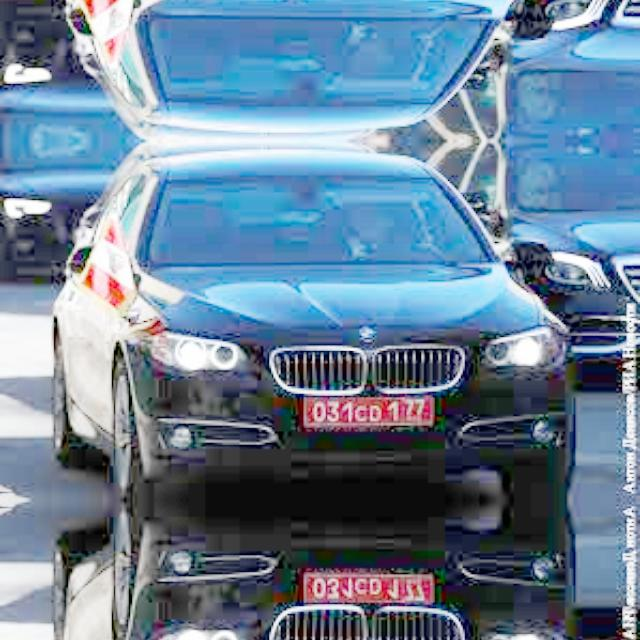diplomatic: (300, 390, 436, 430), (300, 569, 436, 609)
